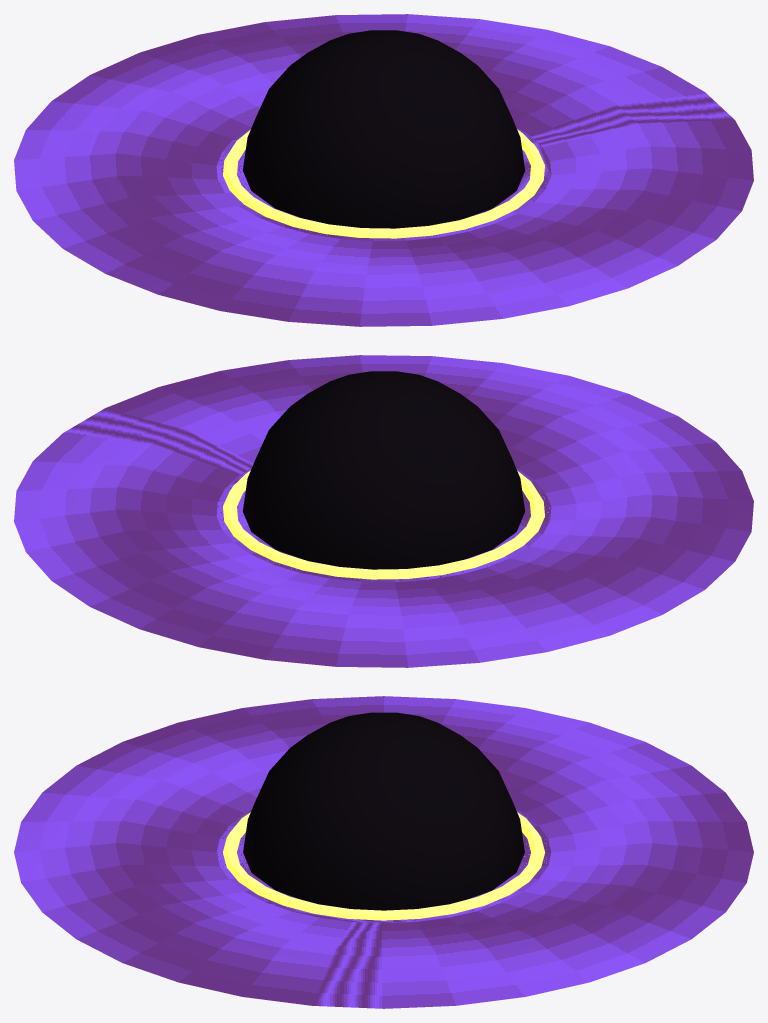
File: x_blackhole.glb
3 renders of one model, top to bottom at view 1: azimuth 30°, elevation 25°; view 2: azimuth 150°, elevation 25°; view 3: azimuth 270°, elevation 25°, orthographic.
Parts seen in each view (by area): view 1: disc, core, horizon; view 2: disc, core, horizon; view 3: disc, core, horizon.
Boxes of the visible parts, x1=… form: disc: x1=14, y1=14, x2=753, y2=326; core: x1=242, y1=30, x2=525, y2=228; horizon: x1=223, y1=129, x2=544, y2=238; disc: x1=14, y1=355, x2=753, y2=667; core: x1=242, y1=371, x2=525, y2=569; horizon: x1=223, y1=470, x2=544, y2=579; disc: x1=14, y1=696, x2=753, y2=1008; core: x1=243, y1=712, x2=524, y2=910; horizon: x1=223, y1=812, x2=544, y2=920.
Bounding box in the file's own units: 0.84 × 0.32 × 0.84.
3 materials, 1 textured.
